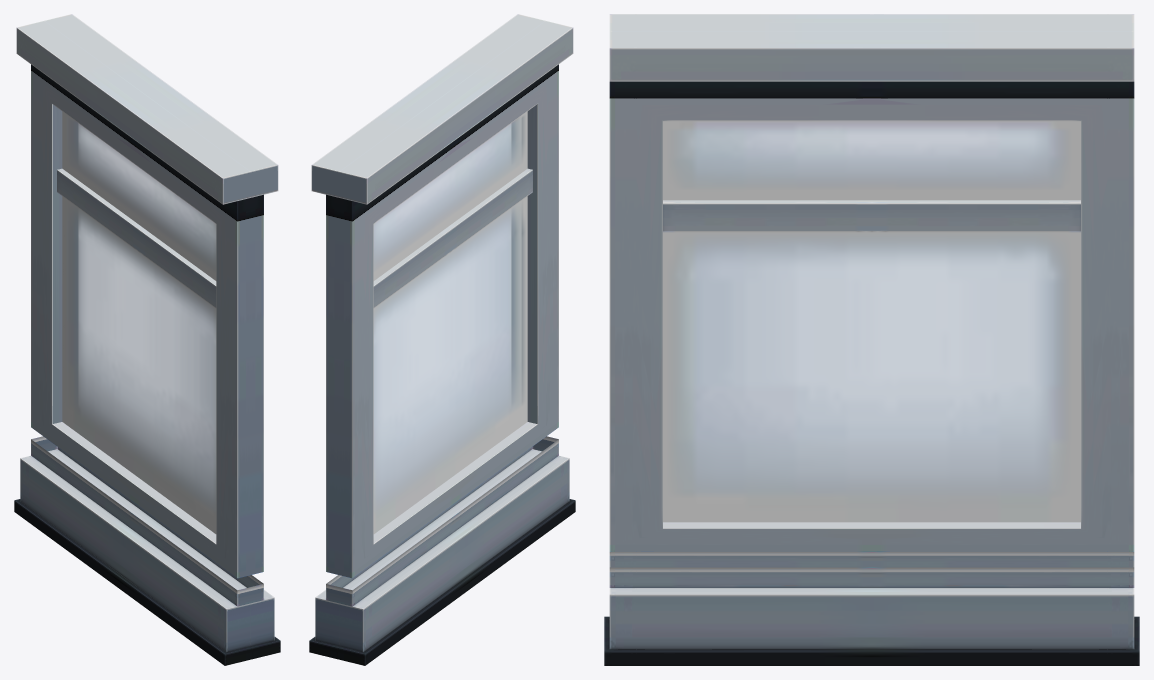
File: my_millenniumlounge_01_partition_01.glb
The picture shows the model from 3 angles, left to right: view 1: azimuth 30°, elevation 25°; view 2: azimuth 150°, elevation 25°; view 3: azimuth 270°, elevation 25°; orthographic projection. The views are drawn at different scales.
Parts seen in each view (by area): view 1: my_millenniumlounge_01_partition_01; view 2: my_millenniumlounge_01_partition_01; view 3: my_millenniumlounge_01_partition_01.
Part boxes in pixels (x1,y1,x2,y2): my_millenniumlounge_01_partition_01: (14,14,280,665); my_millenniumlounge_01_partition_01: (309,14,575,665); my_millenniumlounge_01_partition_01: (604,14,1139,665).
Bounding box in the file's own units: 0.00183 × 0.0152 × 0.012.
3 materials, 3 textured.
